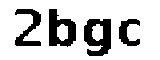1: (14, 7, 46, 51)
b: (49, 7, 77, 50)
c: (116, 18, 145, 48)
g: (82, 16, 113, 60)
